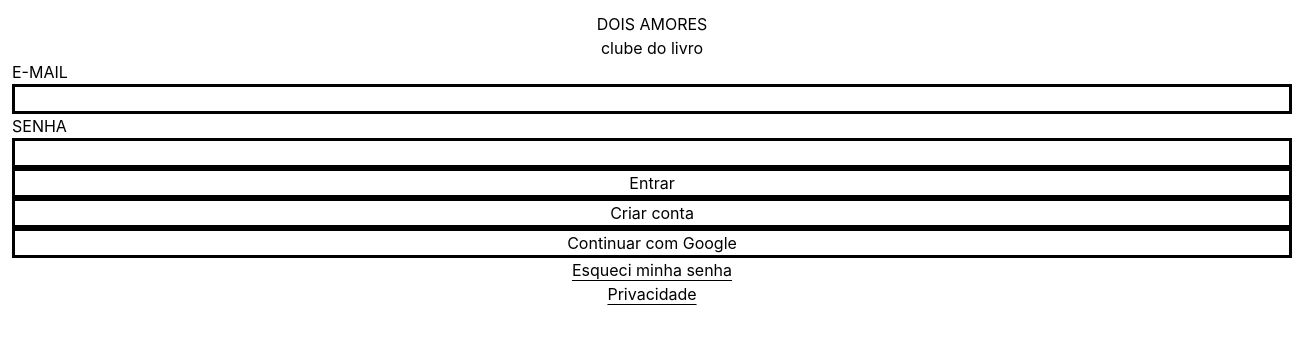
Scenario: tela de login › mostra o erro traduzido quando a senha está errada
Type "leyna@example.com" into the field labelled "E-mail" at (652,99), box [12,84,1292,114]
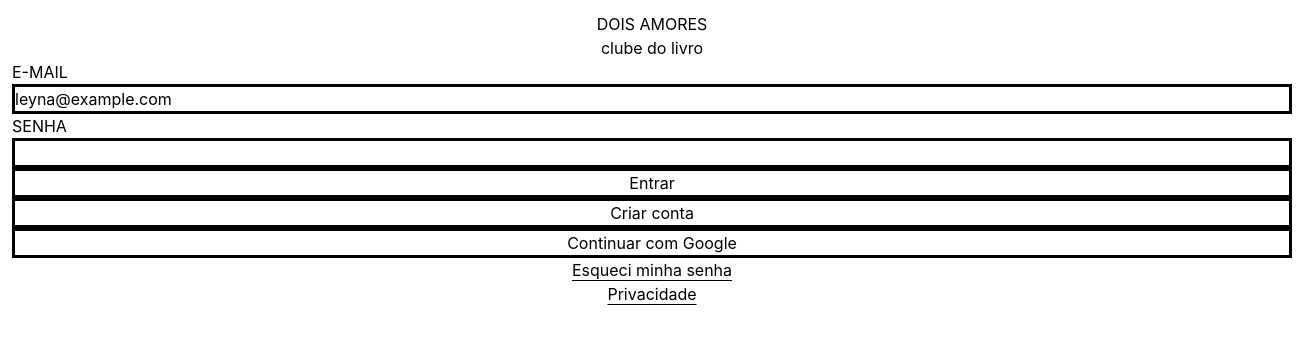
Type "errada123" into the password field labelled "Senha" at (652,153), box [12,138,1292,168]
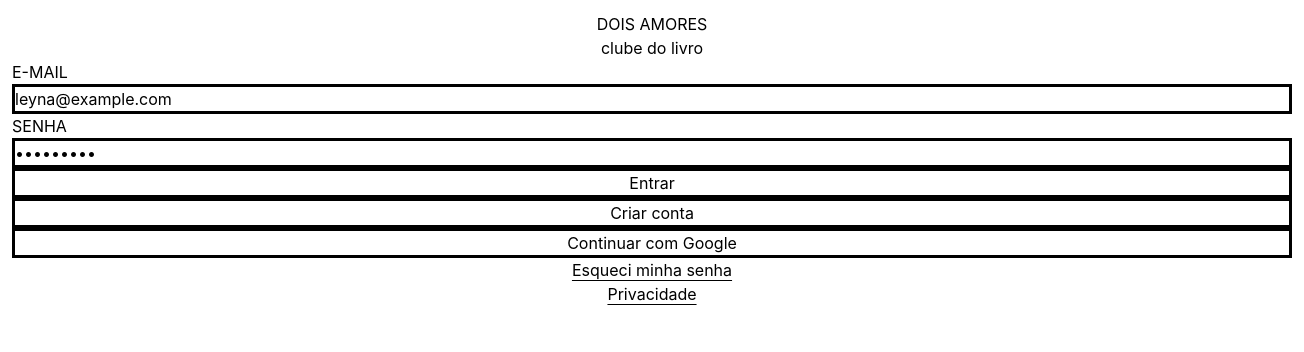
Click the button "Entrar" at (652,183), box [12,168,1292,198]
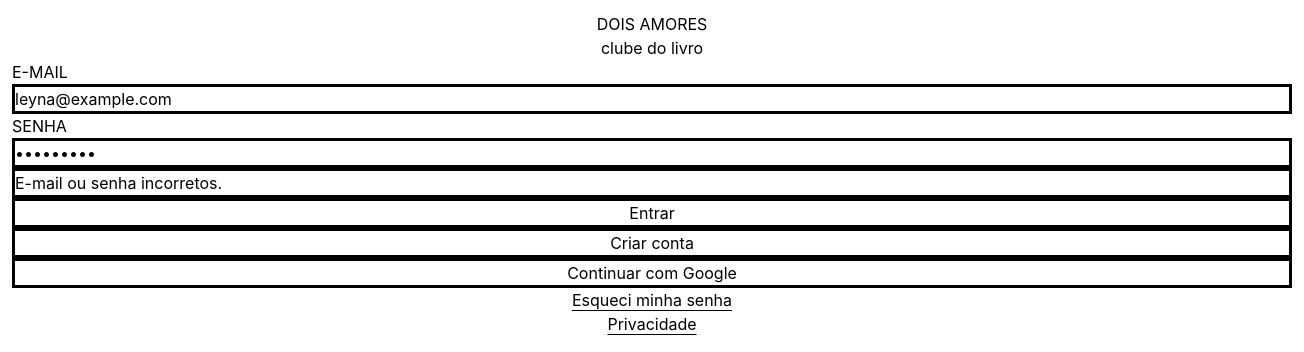
Now the message reads "E-mail ou senha incorretos.", box [15,173,222,193]
